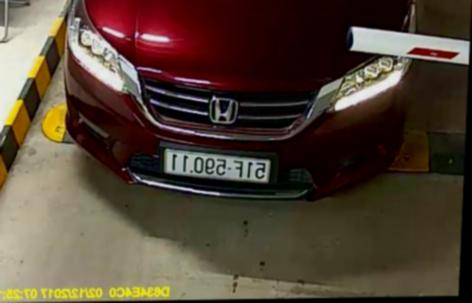License_Plate: (154, 147, 275, 190)
